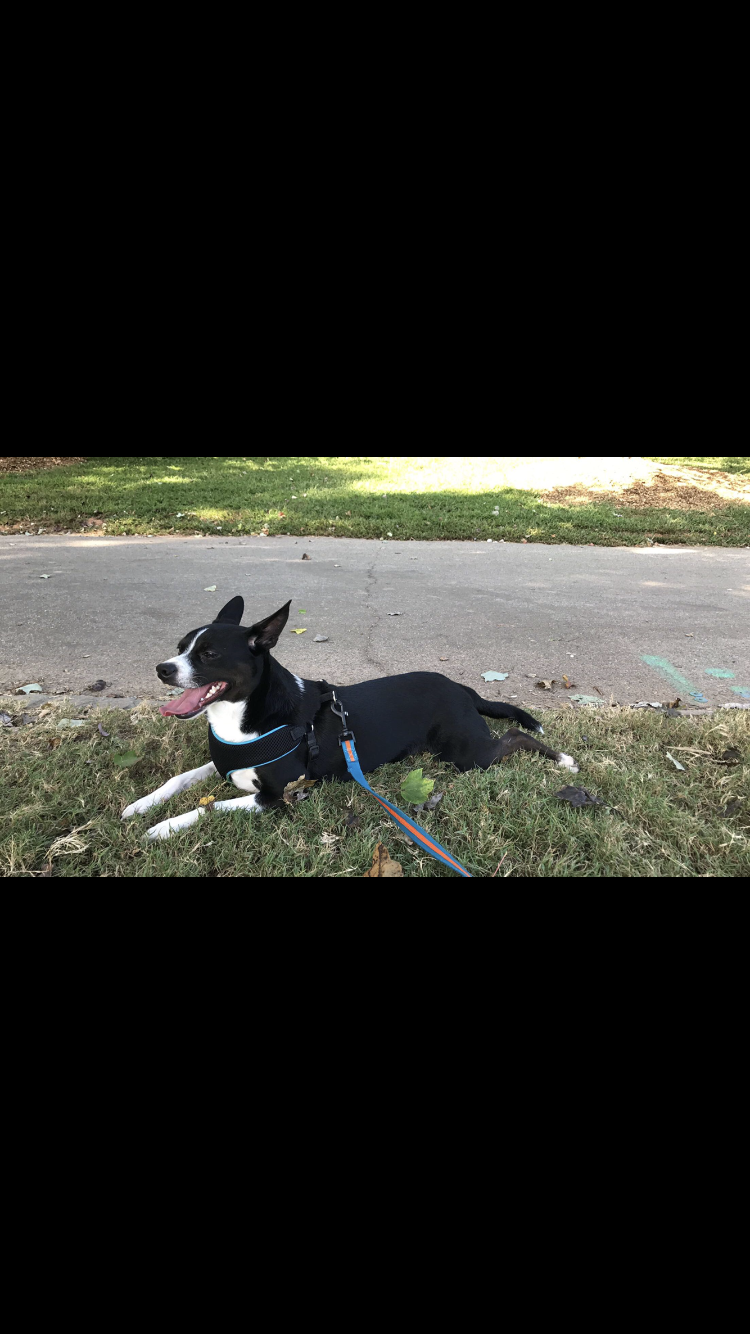Harley: (115, 585, 587, 843)
